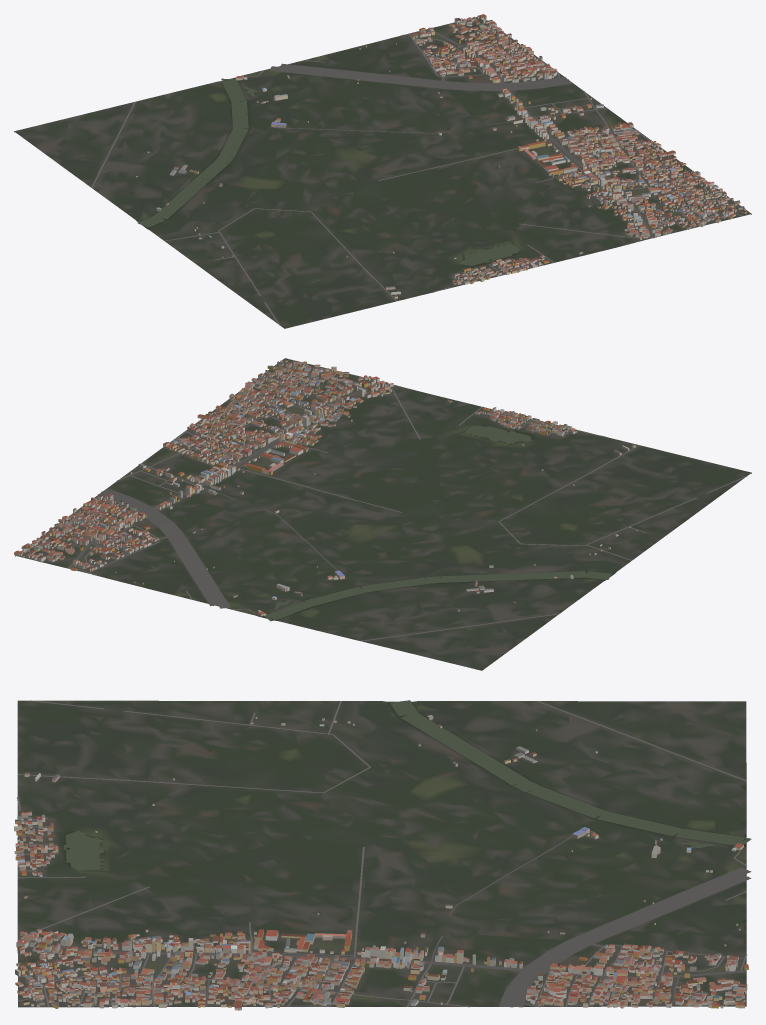
The picture shows the model from 3 angles, top to bottom: view 1: azimuth 30°, elevation 25°; view 2: azimuth 150°, elevation 25°; view 3: azimuth 270°, elevation 25°; orthographic projection. The views are drawn at different scales.
Parts seen in each view (by area): view 1: ground, buildings, roads, water; view 2: ground, buildings, roads, water; view 3: ground, buildings, roads, water.
Boxes of the visible parts, x1,y1,x2,y2 form: ground: (14, 17, 751, 328); buildings: (135, 14, 746, 298); roads: (91, 29, 743, 325); water: (137, 78, 519, 265); ground: (15, 358, 751, 670); buildings: (14, 358, 637, 616); roads: (46, 360, 747, 641); water: (263, 425, 611, 621); ground: (17, 700, 746, 1007); buildings: (14, 715, 748, 1010); roads: (17, 700, 751, 1007); water: (63, 700, 751, 870).
Size of the model in its own units: 1419 by 32.6 by 1419.
